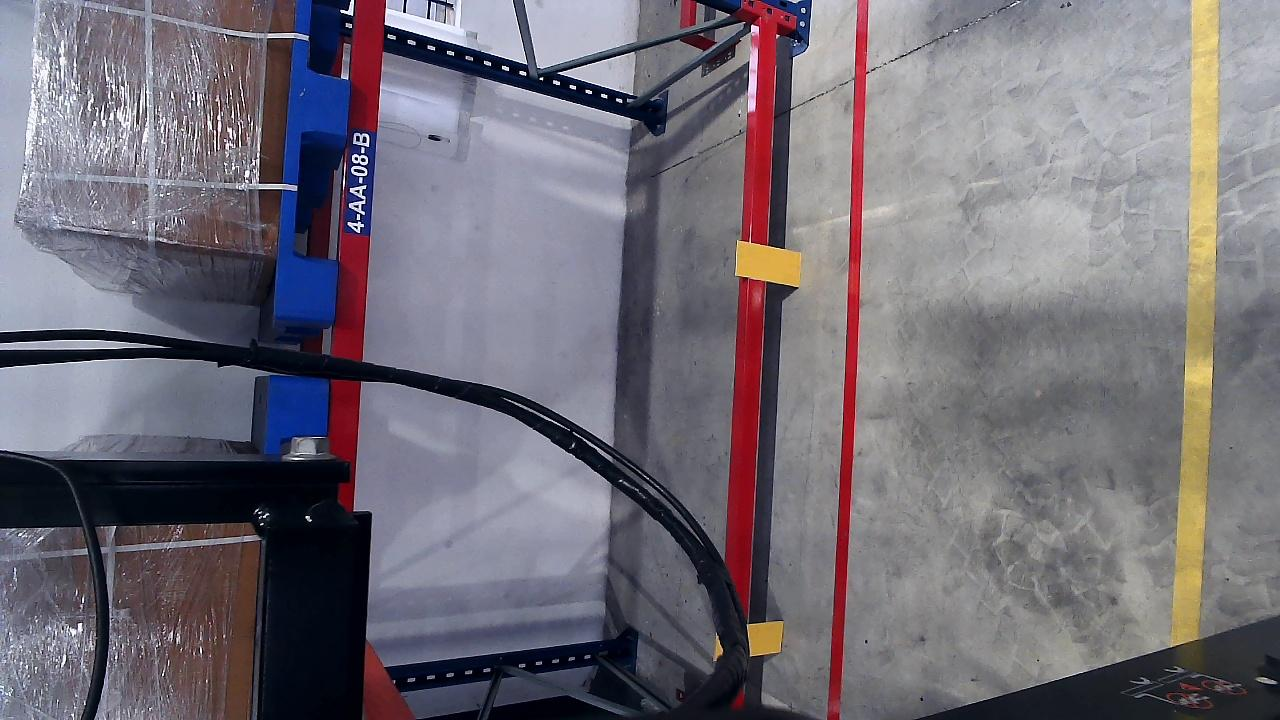h_rack: (723, 34, 776, 719), (329, 1, 390, 356)
orange_strip: (735, 241, 801, 287), (748, 621, 784, 656)
red_line: (833, 9, 868, 708)
small_pallet: (268, 0, 361, 318)
yellow_line: (1172, 7, 1221, 656)
